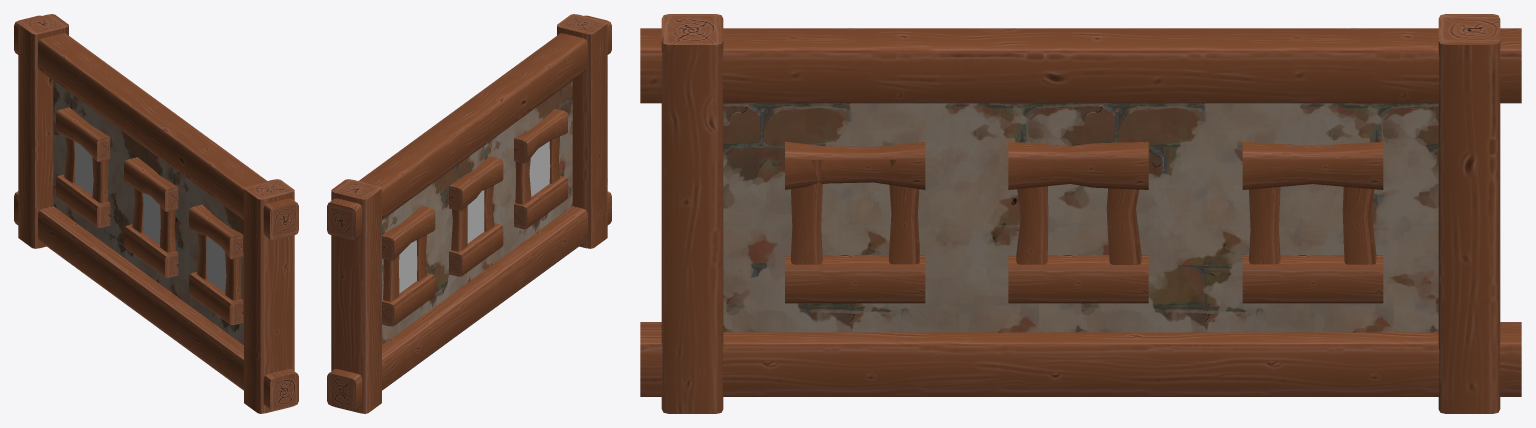
File: SM_Wood_Window.fbx
3 renders of one model, left to right at view 1: azimuth 30°, elevation 25°; view 2: azimuth 150°, elevation 25°; view 3: azimuth 270°, elevation 25°, orthographic. The views are drawn at different scales.
Visible parts, largest first — view 1: SM_Wood_Window_LOD0; view 2: SM_Wood_Window_LOD0; view 3: SM_Wood_Window_LOD0.
Boxes of the visible parts, left/top/right/bottom form: SM_Wood_Window_LOD0: left=14, top=14, right=298, bottom=413; SM_Wood_Window_LOD0: left=327, top=14, right=611, bottom=413; SM_Wood_Window_LOD0: left=640, top=14, right=1521, bottom=413.
Size of the model in its own units: 56.87 by 682 by 315.
3 materials, 2 textured.
